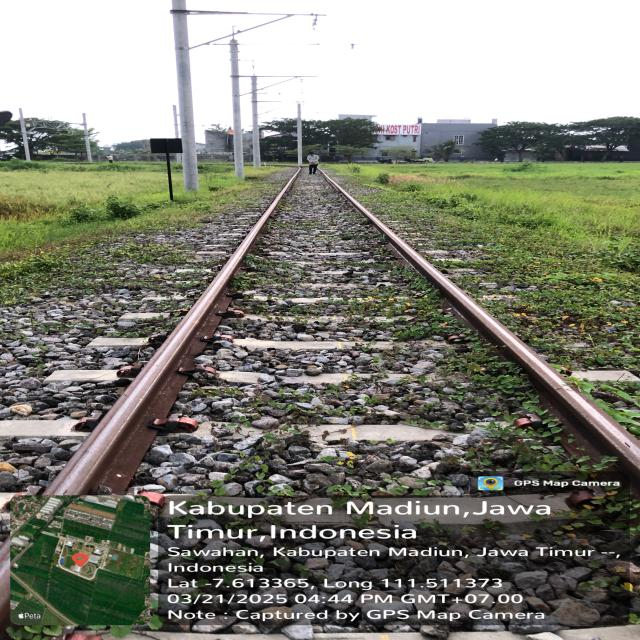rail-detection: (326, 176, 640, 478), (45, 190, 284, 495)
